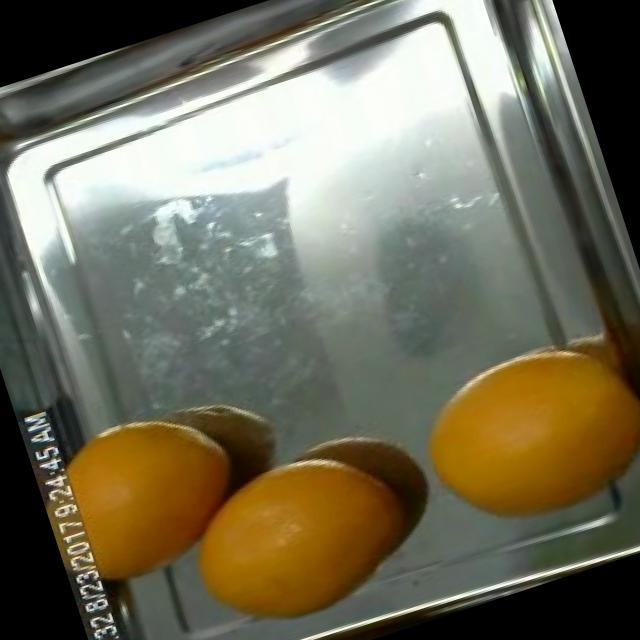Fruit: (31, 382, 298, 632)
